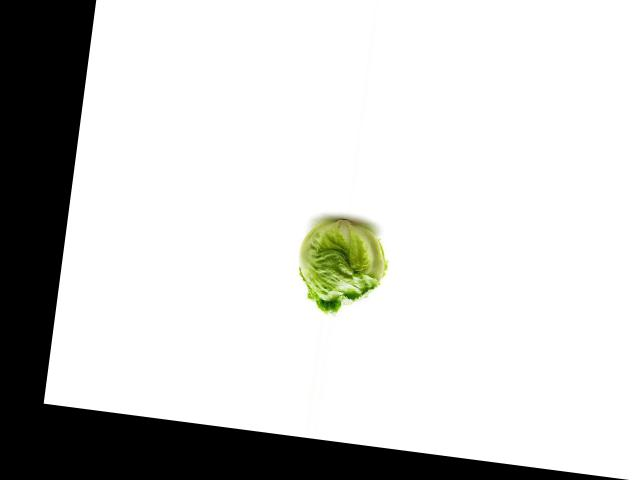lettuce: (289, 210, 400, 321)
